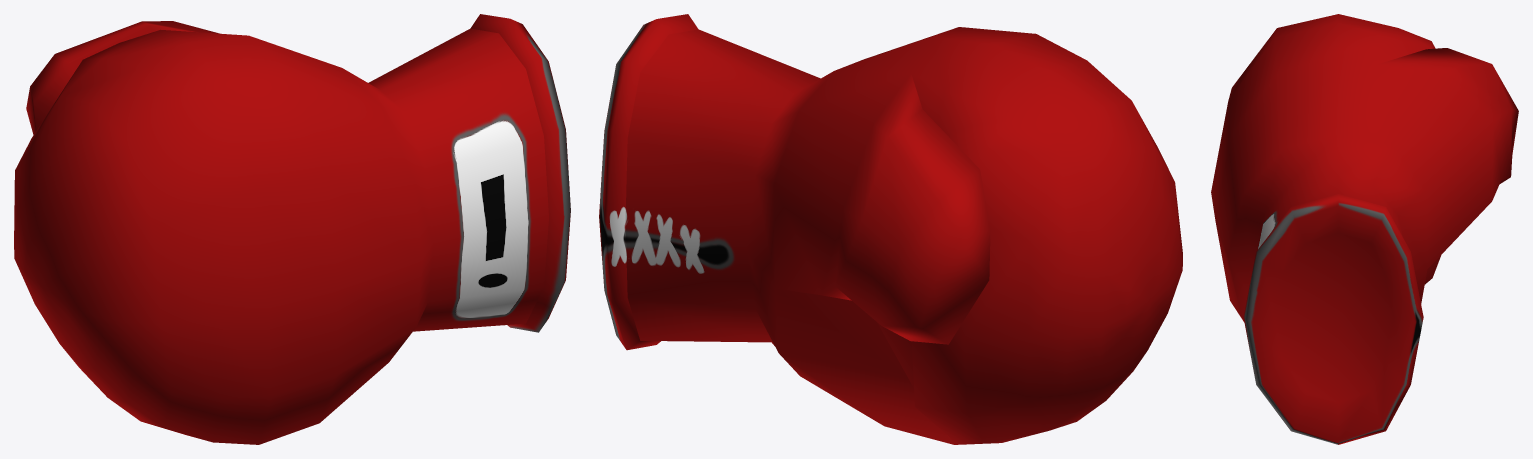
File: boxingGlove.fbx
3 renders of one model, left to right at view 1: azimuth 30°, elevation 25°; view 2: azimuth 150°, elevation 25°; view 3: azimuth 270°, elevation 25°, orthographic. The views are drawn at different scales.
Parts seen in each view (by area): view 1: boxingGlove; view 2: boxingGlove; view 3: boxingGlove.
Part boxes in pixels (left/top/right/bottom): boxingGlove: left=14, top=14, right=570, bottom=444; boxingGlove: left=599, top=14, right=1182, bottom=444; boxingGlove: left=1211, top=14, right=1518, bottom=444.
Bounding box in the file's own units: 3.03 × 2.34 × 2.07.
